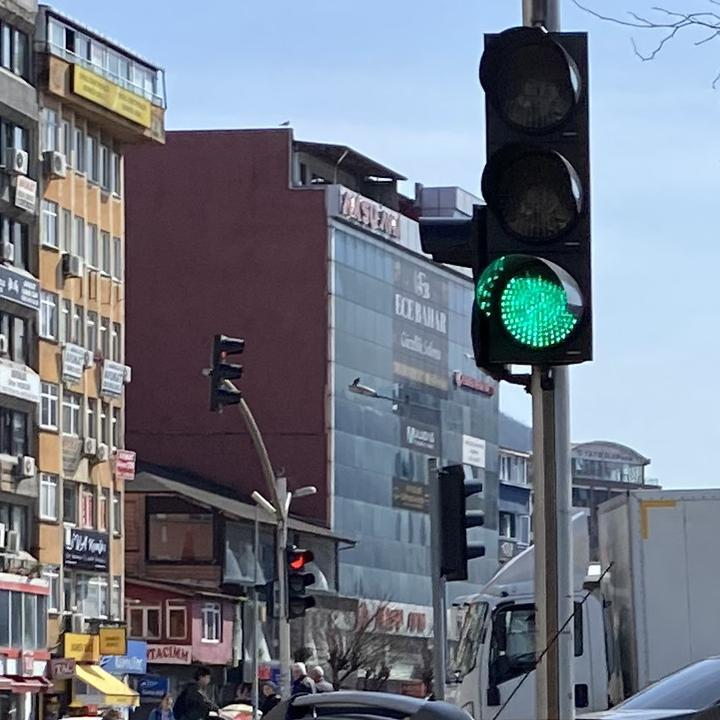green: (468, 28, 590, 375)
